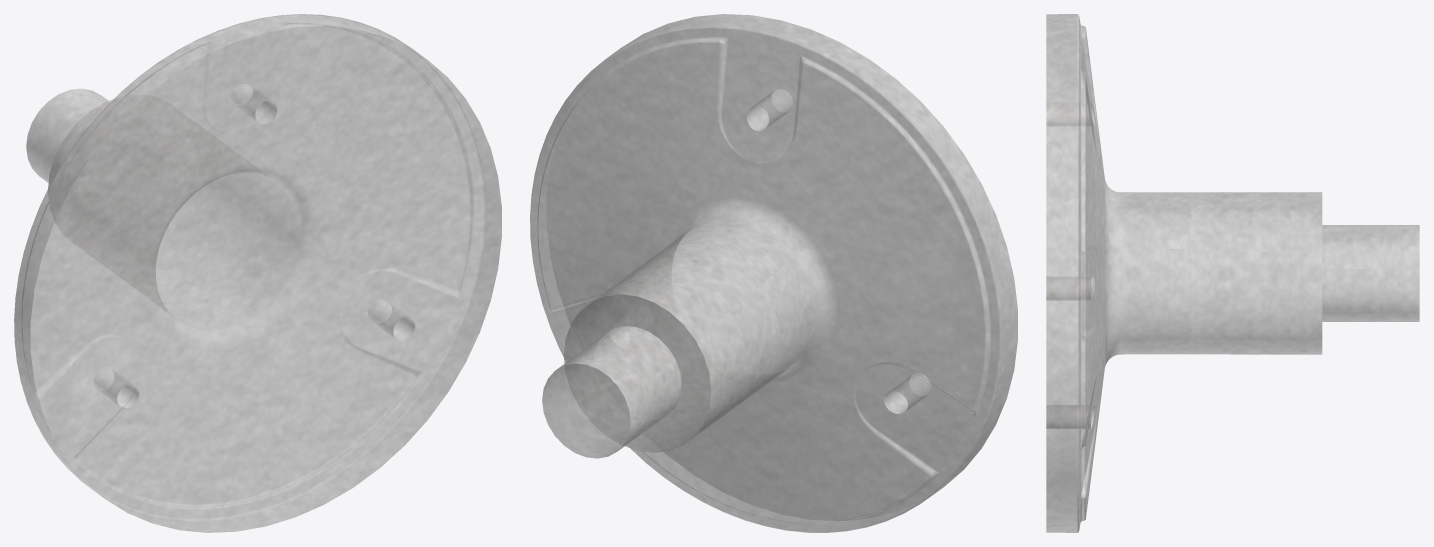
3 views of the same model, side by side, from view 1: azimuth 30°, elevation 25°; view 2: azimuth 150°, elevation 25°; view 3: azimuth 270°, elevation 25° (orthographic). The views are drawn at different scales.
Parts seen in each view (by area): view 1: Body_1; view 2: Body_1; view 3: Body_1.
Part boxes in pixels (x1,y1,x2,y2): Body_1: (14,14,501,532); Body_1: (530,14,1017,532); Body_1: (1046,14,1419,532).
Size of the model in its own units: 0.3199 by 0.23 by 0.32.
1 material, 1 textured.
